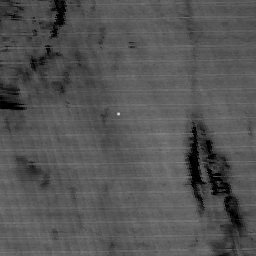Target: (114, 111, 122, 118)
